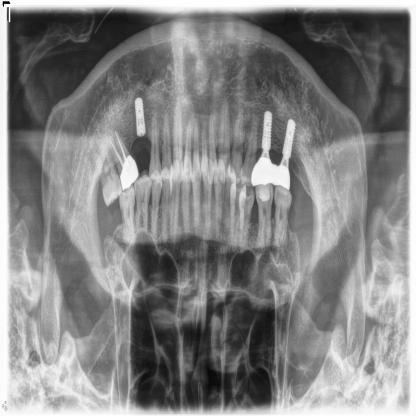ITI: (280, 109, 299, 167), (258, 108, 274, 154), (131, 95, 148, 137)
